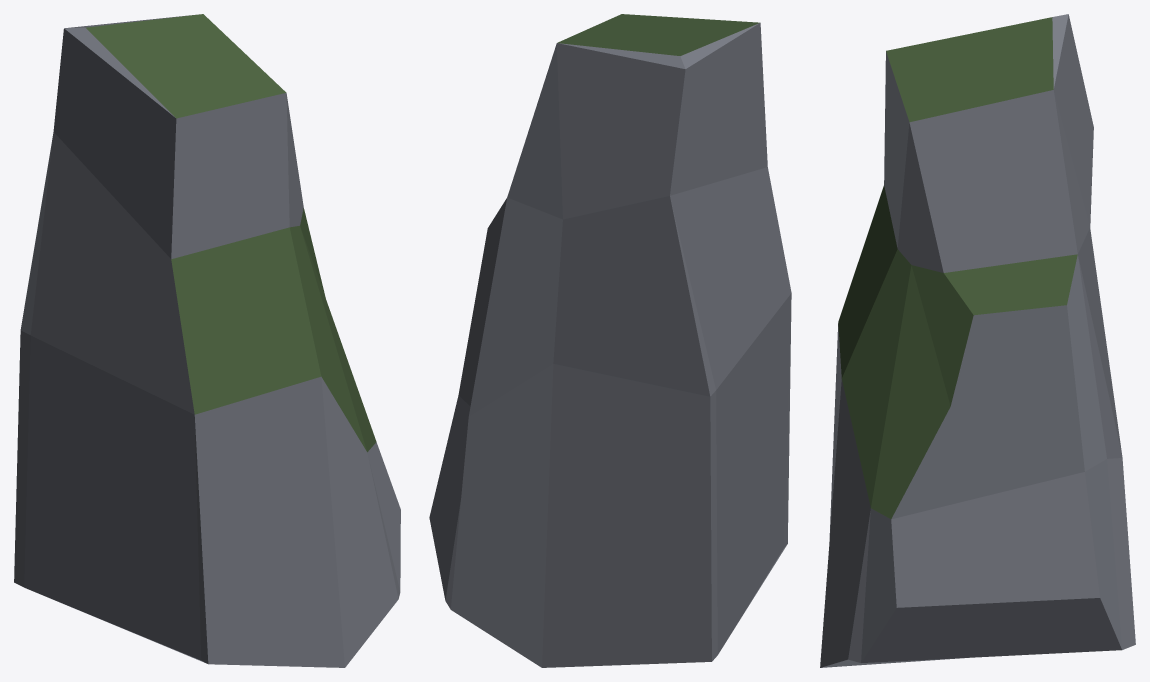
File: Rock_Moss_1.gltf
3 views of the same model, side by side, from view 1: azimuth 30°, elevation 25°; view 2: azimuth 150°, elevation 25°; view 3: azimuth 270°, elevation 25° (orthographic). The views are drawn at different scales.
Visible parts, largest first — view 1: Rock_Moss_1; view 2: Rock_Moss_1; view 3: Rock_Moss_1.
Part boxes in pixels (x1,y1,x2,y2): Rock_Moss_1: [14, 14, 400, 667]; Rock_Moss_1: [429, 14, 791, 667]; Rock_Moss_1: [820, 14, 1135, 667].
Size of the model in its own units: 0.4853 by 0.95 by 0.4667.
